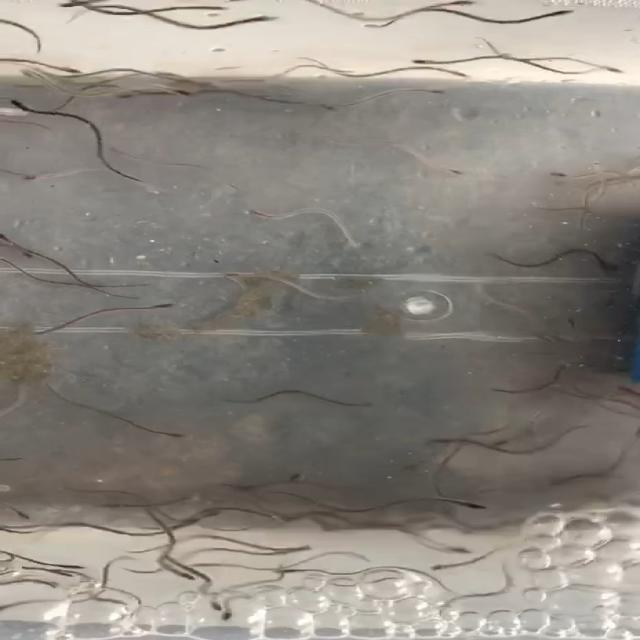active_glass_eel: (303, 96, 361, 112), (577, 257, 628, 274), (365, 392, 400, 414), (8, 98, 56, 114), (111, 90, 159, 106), (558, 314, 590, 337), (442, 166, 494, 180), (0, 503, 36, 523), (176, 564, 210, 585), (159, 424, 192, 444), (8, 170, 49, 186), (186, 507, 226, 523), (45, 562, 98, 574), (434, 542, 482, 555), (212, 606, 246, 624), (428, 558, 466, 574), (170, 88, 207, 104), (464, 493, 495, 512), (422, 429, 450, 450), (237, 14, 279, 28), (58, 0, 111, 11), (239, 201, 272, 218), (551, 6, 588, 21), (198, 597, 232, 613), (293, 537, 327, 553), (144, 300, 178, 316), (293, 538, 329, 553), (417, 85, 461, 97), (489, 435, 518, 453), (190, 2, 230, 15), (582, 155, 618, 169), (276, 471, 310, 485), (452, 64, 481, 80), (12, 247, 42, 262), (220, 270, 252, 284), (584, 65, 628, 75), (527, 308, 550, 327), (177, 76, 216, 87), (409, 54, 443, 66), (59, 63, 86, 78), (271, 566, 307, 577), (0, 230, 22, 246), (541, 165, 567, 178), (455, 0, 482, 12), (104, 147, 130, 158)
